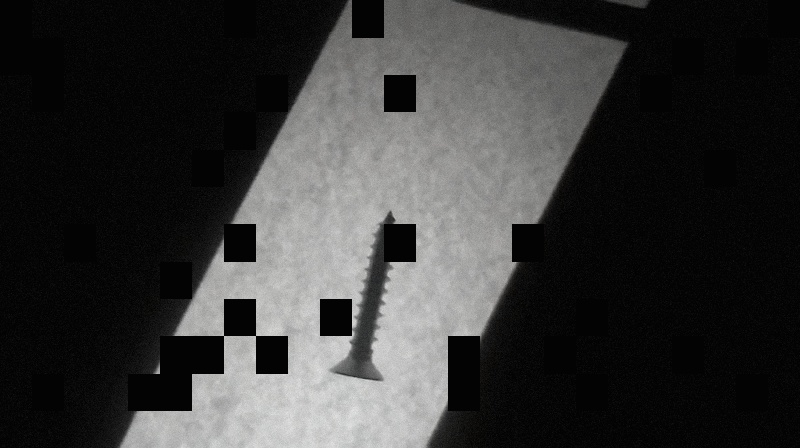S001: (327, 207, 401, 387)
